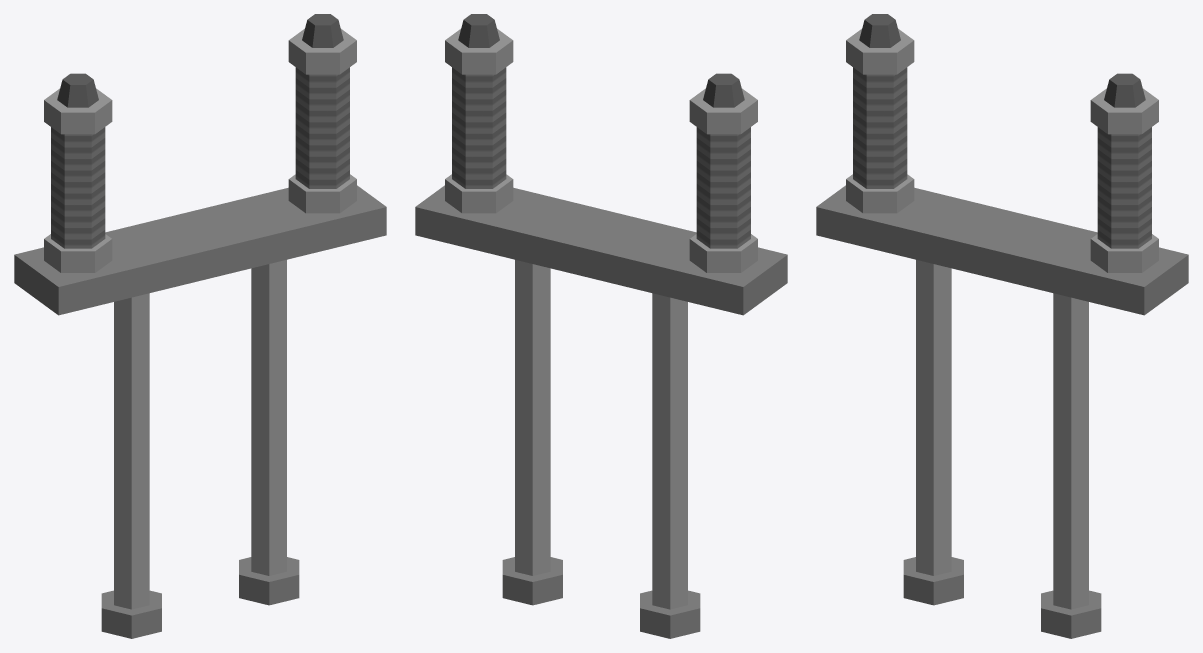
The model's file is west_zs14.FBX.
3 renders of one model, left to right at view 1: azimuth 30°, elevation 25°; view 2: azimuth 150°, elevation 25°; view 3: azimuth 330°, elevation 25°, orthographic.
Visible parts, largest first — view 1: west_zs14; view 2: west_zs14; view 3: west_zs14.
Boxes of the visible parts, x1,y1,x2,y2 form: west_zs14: [14, 14, 386, 638]; west_zs14: [415, 14, 787, 638]; west_zs14: [816, 14, 1188, 638].
Bounding box in the file's own units: 1192 × 1935 × 279.
